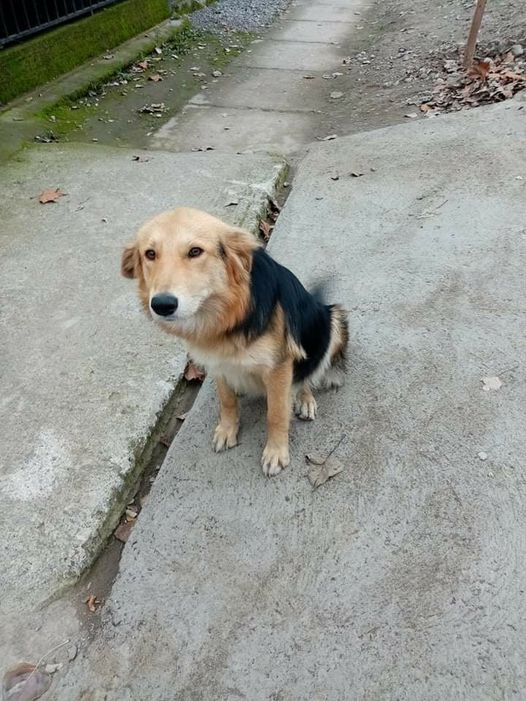dog: (101, 197, 364, 498)
